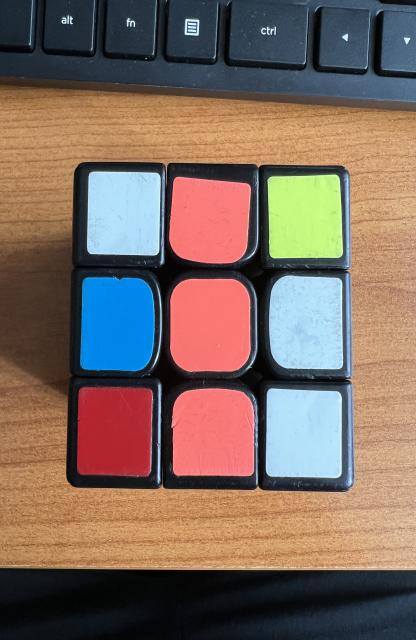Blue: (80, 278, 155, 371)
Orange: (170, 279, 250, 371), (171, 389, 255, 476), (169, 176, 251, 264)
Red: (77, 388, 153, 476)
White: (269, 275, 343, 370), (265, 389, 342, 478), (87, 171, 160, 255)
Yellow: (268, 175, 343, 259)
